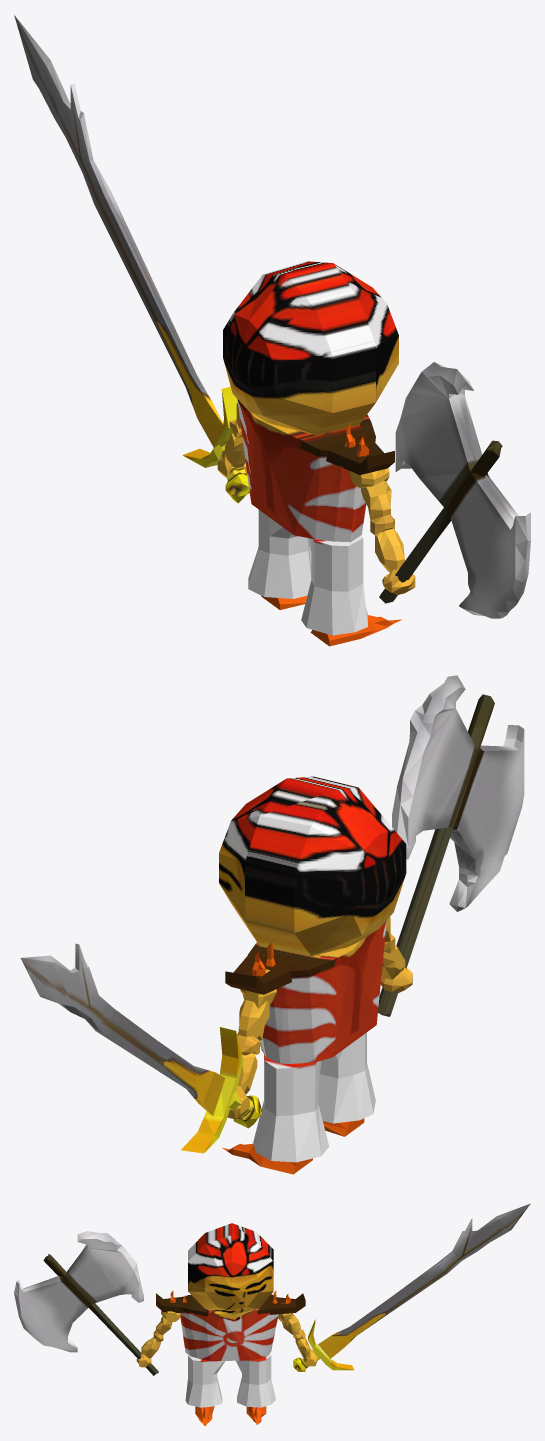
Rendered from FYoyo.glb.
3 views of the same model, one above another, from view 1: azimuth 30°, elevation 25°; view 2: azimuth 150°, elevation 25°; view 3: azimuth 270°, elevation 25° (orthographic). The views are drawn at different scales.
Parts seen in each view (by area): view 1: FYoyo; view 2: FYoyo; view 3: FYoyo.
Part boxes in pixels (x1,y1,x2,y2): FYoyo: (14,15,530,646); FYoyo: (20,675,524,1174); FYoyo: (14,1203,530,1426).
Size of the model in its own units: 45.48 by 111 by 255.
Materials: 1 (1 with a texture image).
